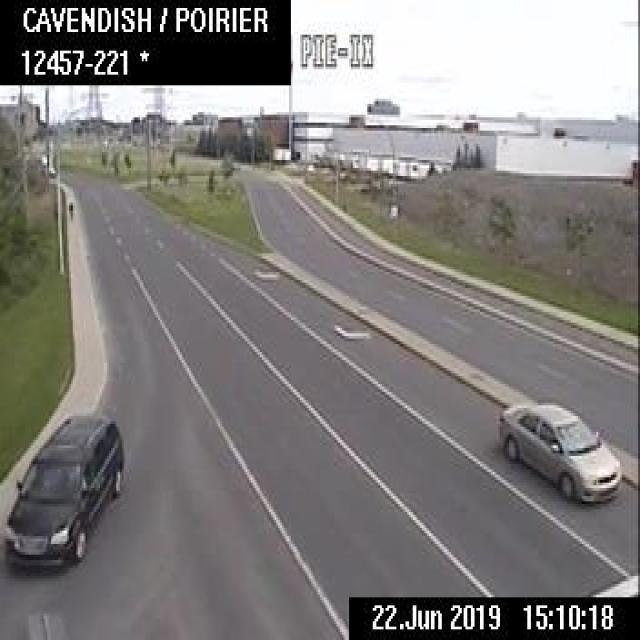pedestrian: (66, 198, 72, 222)
vehicle: (0, 414, 124, 568), (496, 397, 622, 504), (587, 571, 638, 597)
